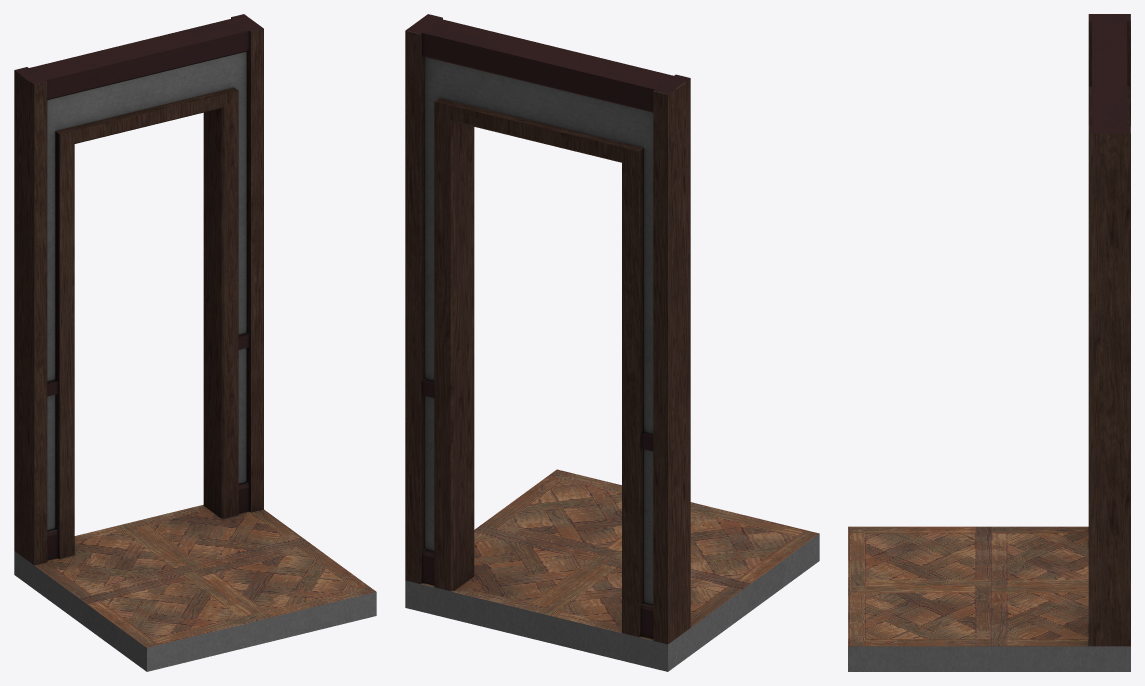
File: SM_Wall_01_Door_Hole.fbx
3 renders of one model, left to right at view 1: azimuth 30°, elevation 25°; view 2: azimuth 150°, elevation 25°; view 3: azimuth 270°, elevation 25°, orthographic. The views are drawn at different scales.
Visible parts, largest first — view 1: Wall_01_Door_Hole; view 2: Wall_01_Door_Hole; view 3: Wall_01_Door_Hole.
Part boxes in pixels (<box>): Wall_01_Door_Hole: <box>14,14,376,671</box>; Wall_01_Door_Hole: <box>405,14,819,671</box>; Wall_01_Door_Hole: <box>848,14,1130,671</box>.
Size of the model in its own units: 200 by 420 by 200.
